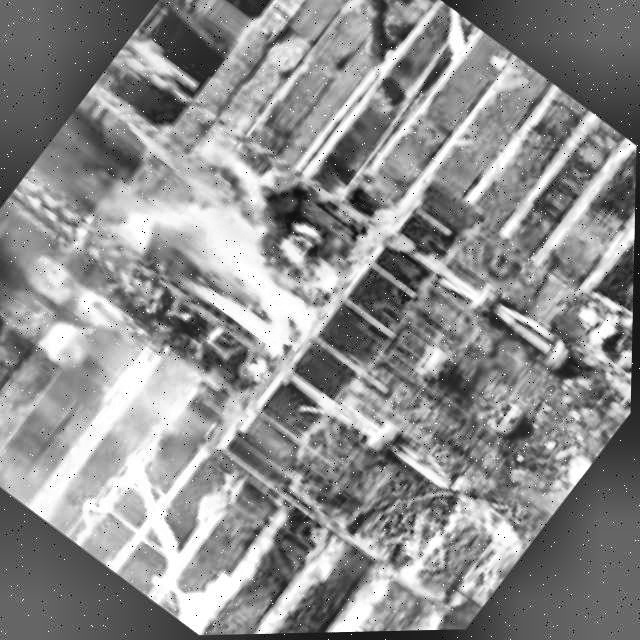Fire: (81, 125, 351, 370)
